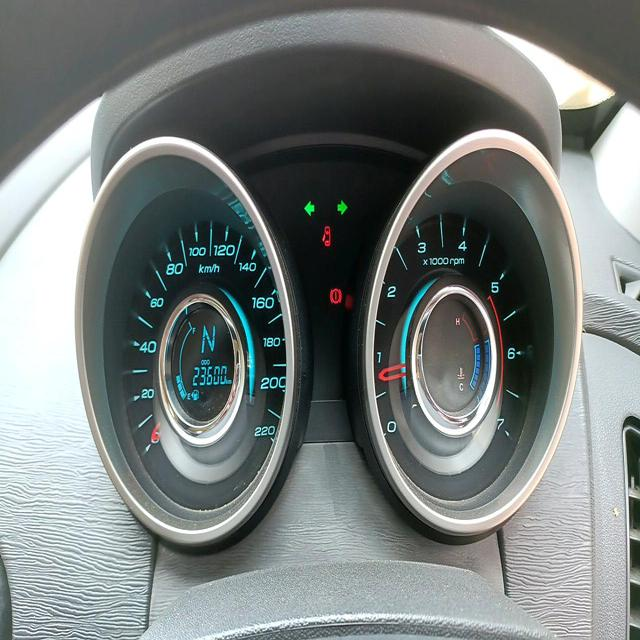odometer: (189, 361, 229, 388)
